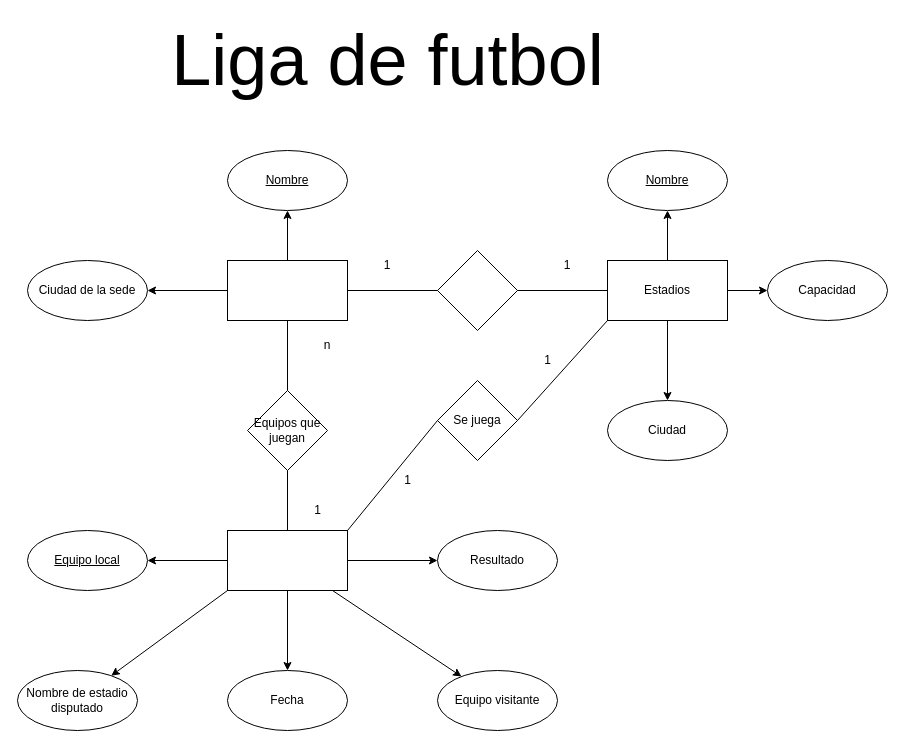
Some shapes in this 905 by 748 pixel diagram are drawn without their labels. The shapes that lost their labels are listed below. From the top down, each one's box as (x1, y1, x2, y2) in pixels, then its label:
(226, 260, 348, 320): Equipos
(436, 250, 518, 330): Pertenece
(226, 530, 348, 590): Partidos
